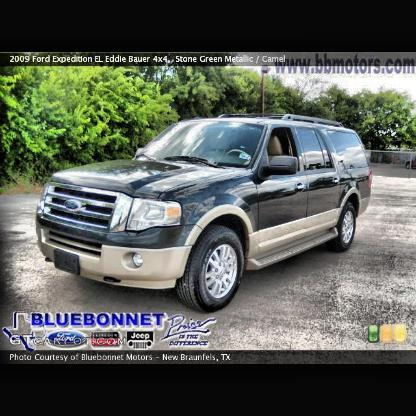Ford Expedition EL SUV 2009: (30, 111, 379, 317)
